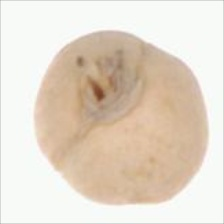L3: (80, 56, 144, 119)
L4: (34, 29, 210, 206)
